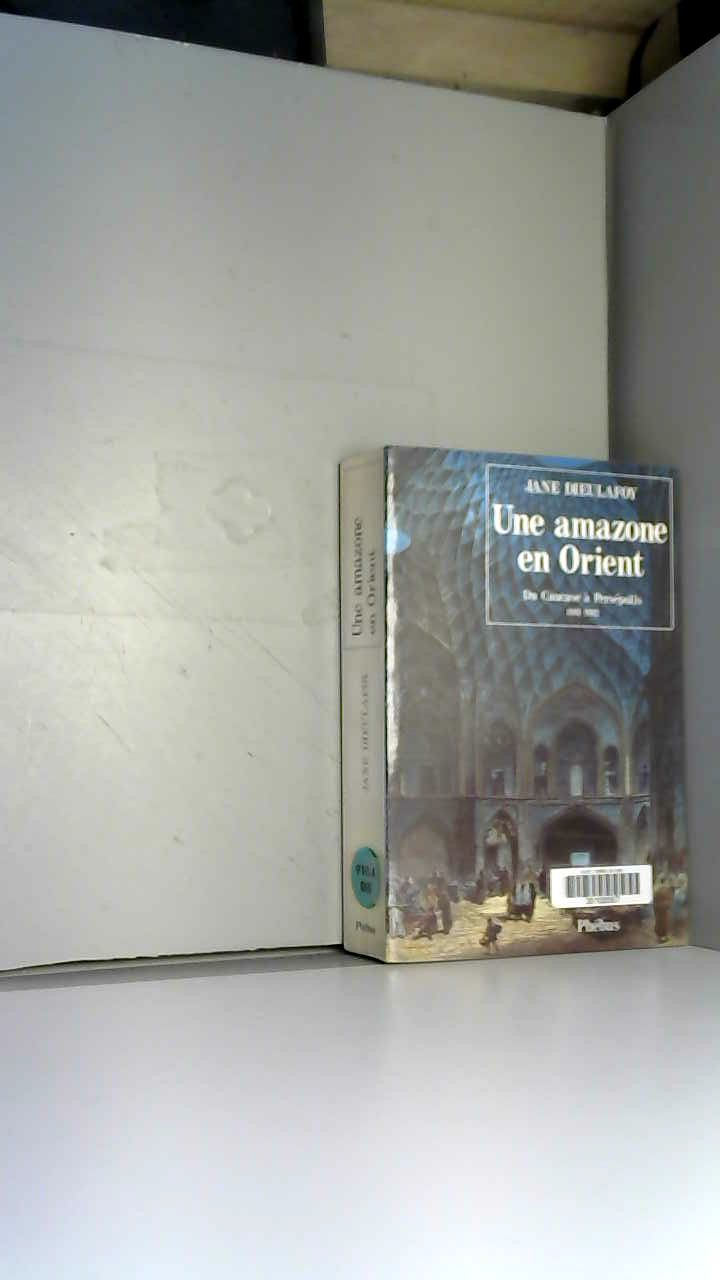book: (289, 405, 720, 993)
